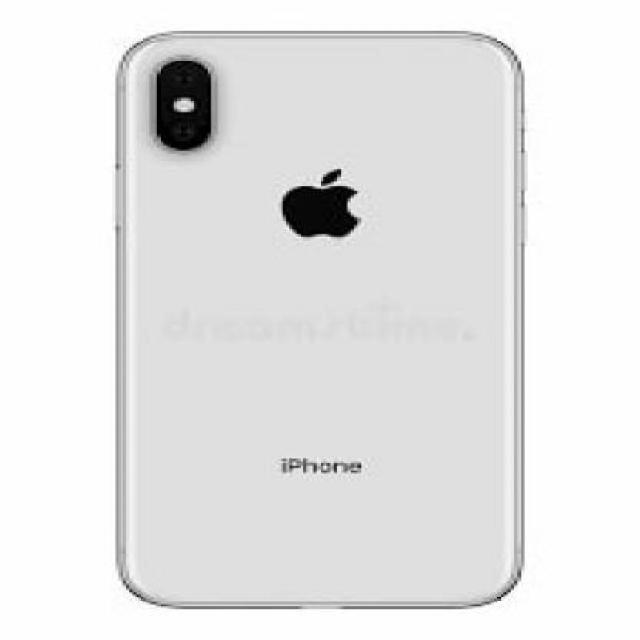fake: (112, 30, 522, 616)
